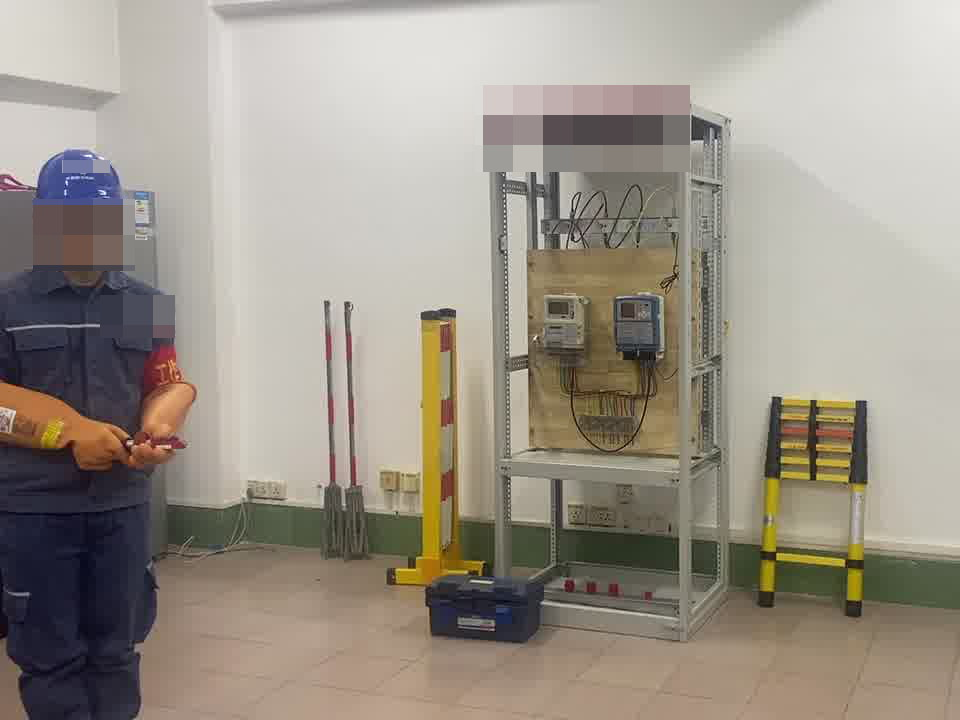badge: (143, 343, 187, 395)
downsuit: (1, 514, 158, 720)
halt: (30, 146, 134, 284)
longglove: (1, 385, 128, 472), (132, 384, 191, 461)
person: (1, 139, 198, 720)
testrod: (135, 431, 186, 453)
upsuit: (1, 257, 179, 517)
